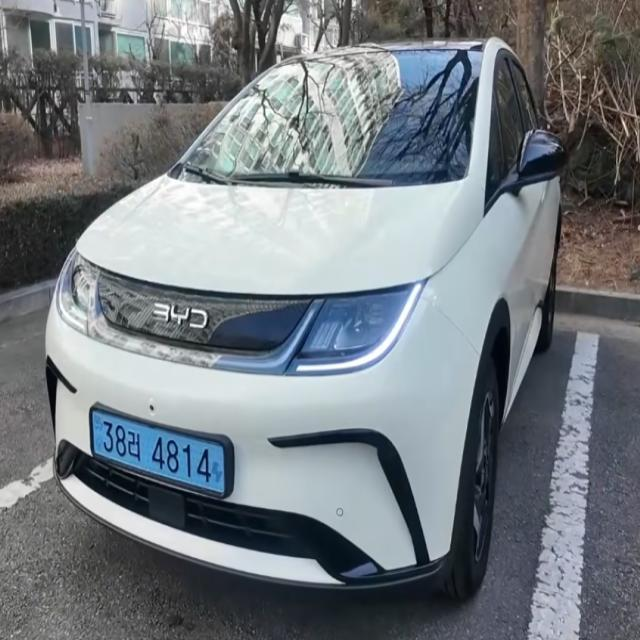car: (79, 390, 254, 510)
carev: (209, 440, 228, 499), (87, 401, 105, 461)
